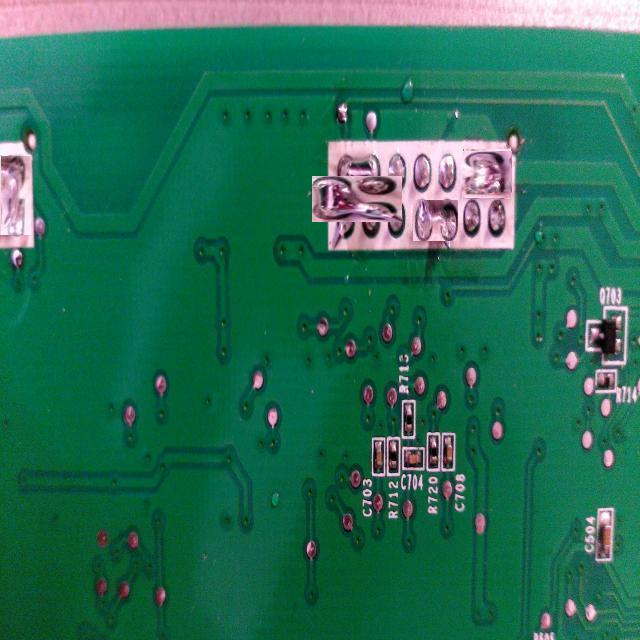Short_circuit: (323, 165, 392, 233), (0, 155, 31, 235), (462, 150, 512, 199), (412, 199, 458, 241)
